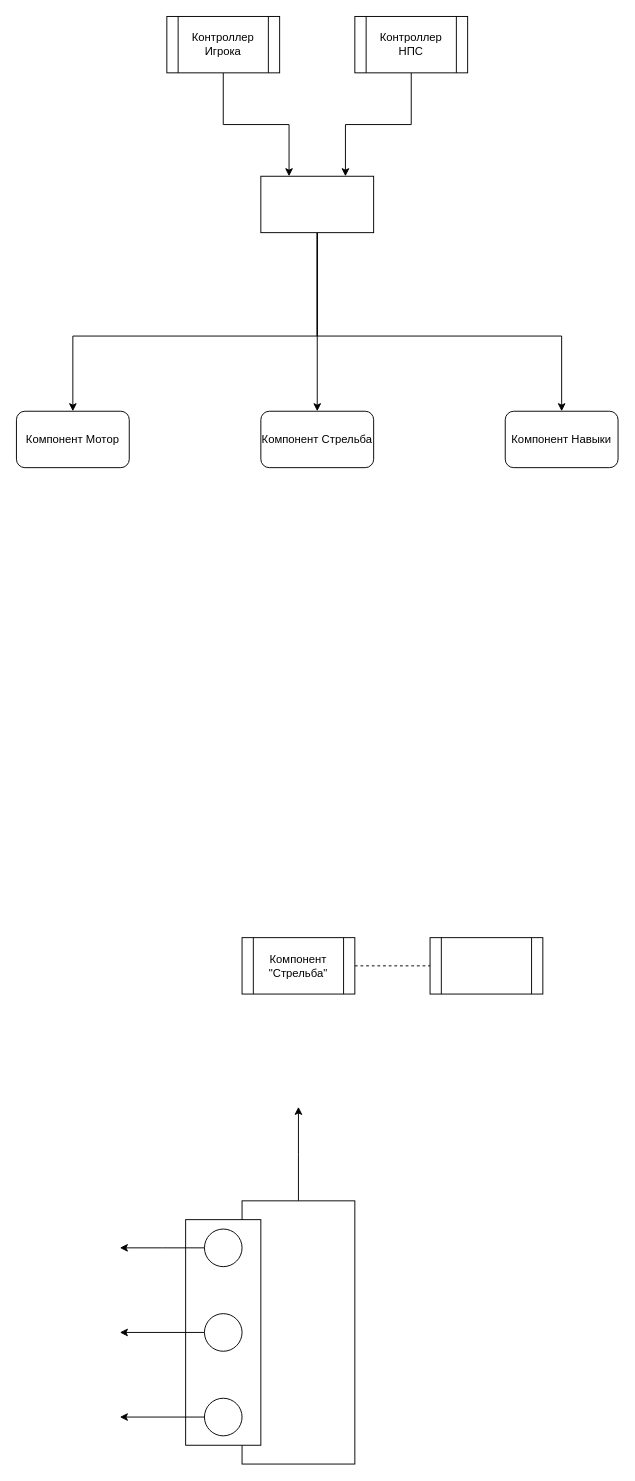
The diagram is 635 pixels wide and 1481 high, and some of its shapes have lost their labels. The shapes that lost their labels are listed below. From the top down, each one's centre as x and y in pixels, then its label:
the point at 317,204: Сущность Корабль
the point at 486,965: Компонент "Стрельба с Башни"
